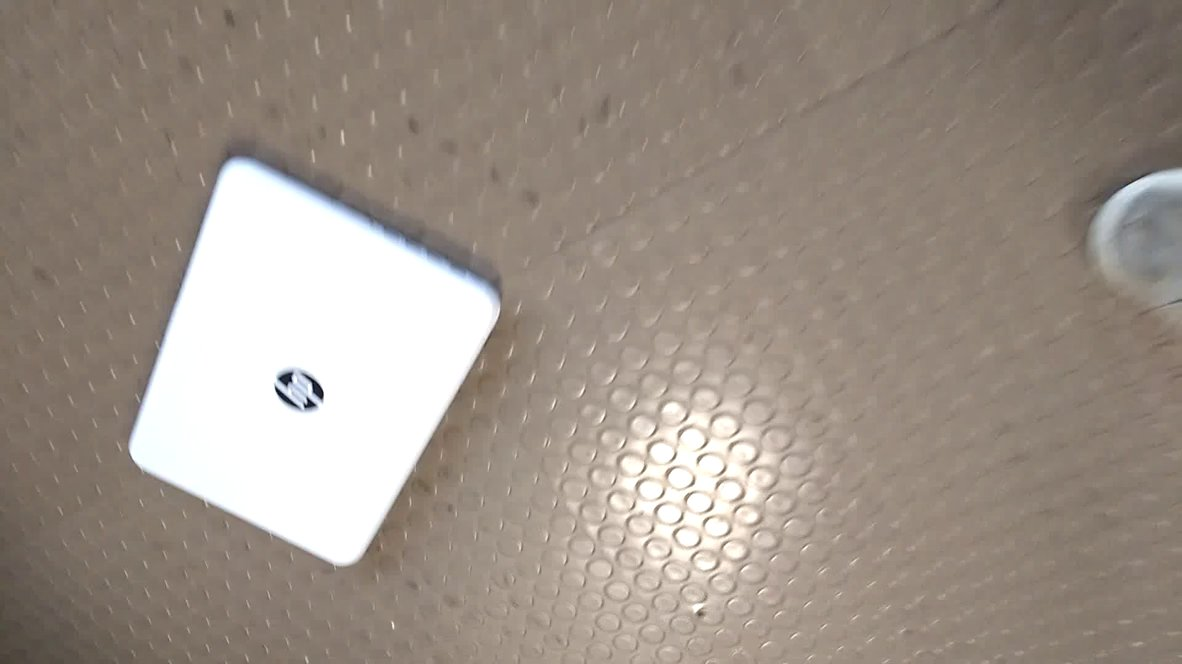laptop: (125, 141, 510, 576)
